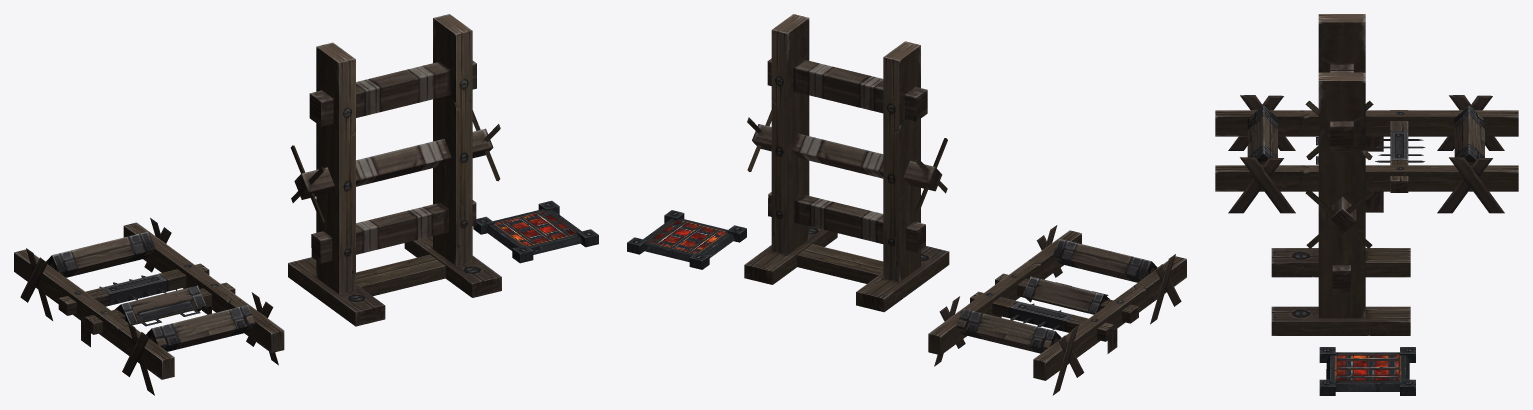
Rendered from 2_DG_XingJu_01.FBX.
3 views of the same model, side by side, from view 1: azimuth 30°, elevation 25°; view 2: azimuth 150°, elevation 25°; view 3: azimuth 270°, elevation 25° (orthographic). The views are drawn at different scales.
Parts seen in each view (by area): view 1: 2_DG_XingJu_02, 2_DG_XingJu_01, 2_DG_XingJu_03; view 2: 2_DG_XingJu_02, 2_DG_XingJu_01, 2_DG_XingJu_03; view 3: 2_DG_XingJu_02, 2_DG_XingJu_01, 2_DG_XingJu_03.
Boxes of the visible parts, x1,y1,x2,y2 form: 2_DG_XingJu_02: [288, 14, 501, 326]; 2_DG_XingJu_01: [14, 218, 284, 395]; 2_DG_XingJu_03: [473, 200, 598, 263]; 2_DG_XingJu_02: [744, 14, 949, 312]; 2_DG_XingJu_01: [928, 225, 1186, 395]; 2_DG_XingJu_03: [627, 210, 746, 269]; 2_DG_XingJu_02: [1271, 14, 1410, 335]; 2_DG_XingJu_01: [1215, 95, 1518, 213]; 2_DG_XingJu_03: [1319, 347, 1415, 395].
Size of the model in its own units: 849 by 400 by 437.
1 material, 1 textured.
